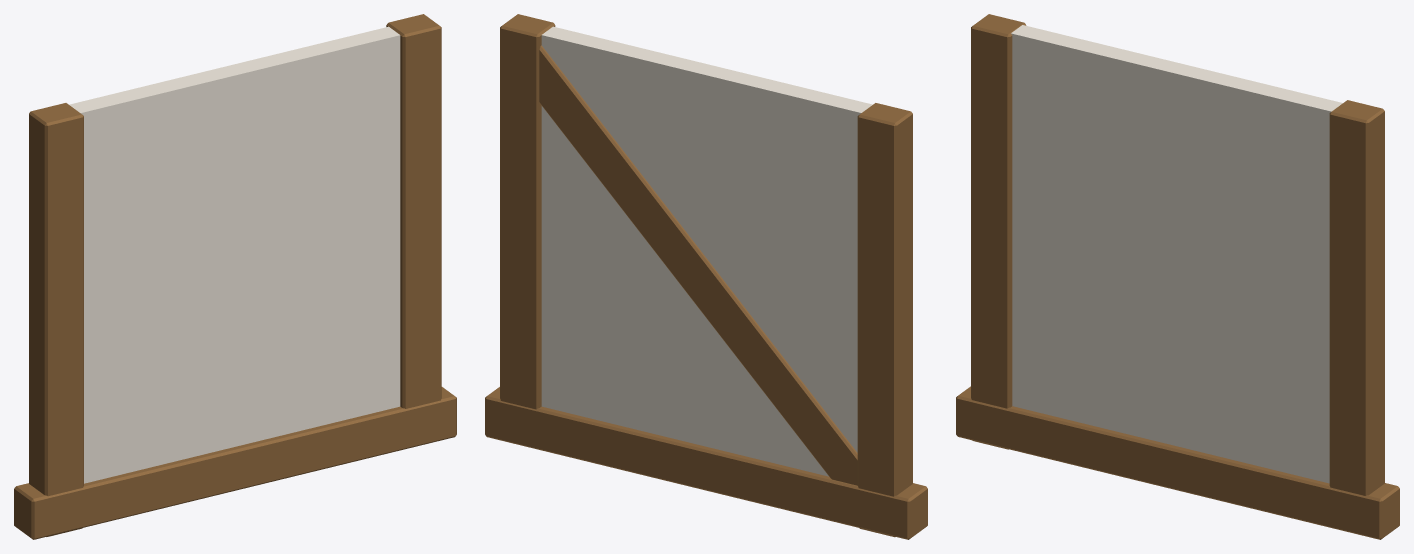
Rendered from WallDiagL.fbx.
3 renders of one model, left to right at view 1: azimuth 30°, elevation 25°; view 2: azimuth 150°, elevation 25°; view 3: azimuth 330°, elevation 25°, orthographic.
Visible parts, largest first — view 1: Cube.125, Cube.134, Cube.135, Cube.133; view 2: Cube.125, Cube.134, Cube.135, Cube.132, Cube.133; view 3: Cube.125, Cube.133, Cube.135, Cube.134.
Boxes of the visible parts, box(x1,y1,x2,y2) form: Cube.125: box(69, 26, 400, 483); Cube.134: box(29, 103, 83, 536); Cube.135: box(14, 387, 456, 539); Cube.133: box(386, 14, 441, 408); Cube.125: box(541, 26, 872, 476); Cube.134: box(857, 103, 912, 537); Cube.135: box(485, 387, 927, 539); Cube.132: box(539, 45, 857, 485); Cube.133: box(500, 14, 555, 409); Cube.125: box(1011, 25, 1342, 483); Cube.133: box(1329, 100, 1384, 495); Cube.135: box(956, 386, 1399, 539); Cube.134: box(971, 14, 1026, 449).
Size of the model in its own units: 216 by 202 by 17.27.
